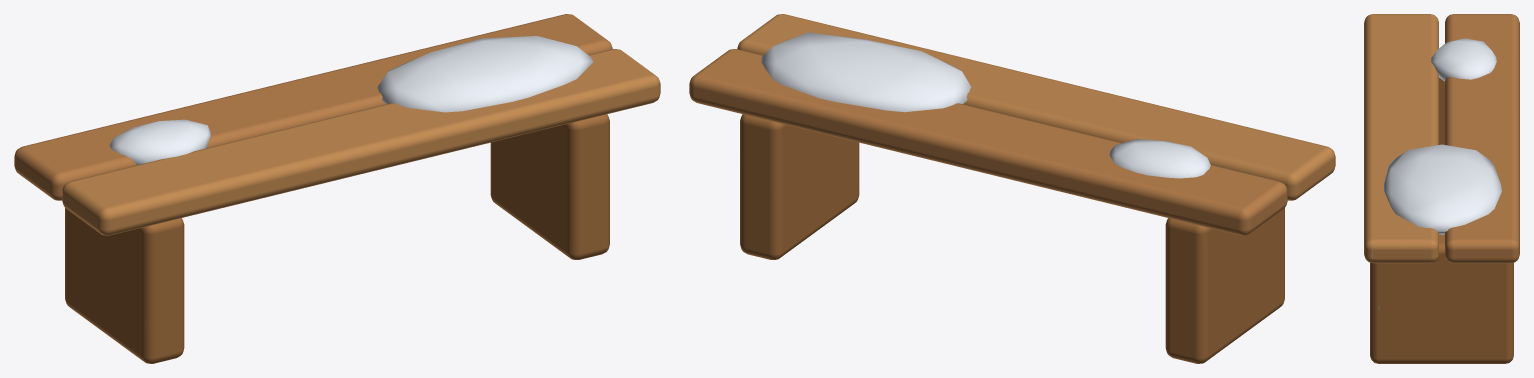
The model's file is bench.glb.
The picture shows the model from 3 angles, left to right: view 1: azimuth 30°, elevation 25°; view 2: azimuth 150°, elevation 25°; view 3: azimuth 270°, elevation 25°; orthographic projection. The views are drawn at different scales.
Visible parts, largest first — view 1: leg; view 2: leg; view 3: leg.
Part boxes in pixels (x1,y1,x2,y2): leg: (14, 14, 660, 363); leg: (689, 14, 1335, 363); leg: (1364, 14, 1519, 363).
Bounding box in the file's own units: 1.9 × 0.6045 × 0.54.
Materials: 1 (1 with a texture image).
